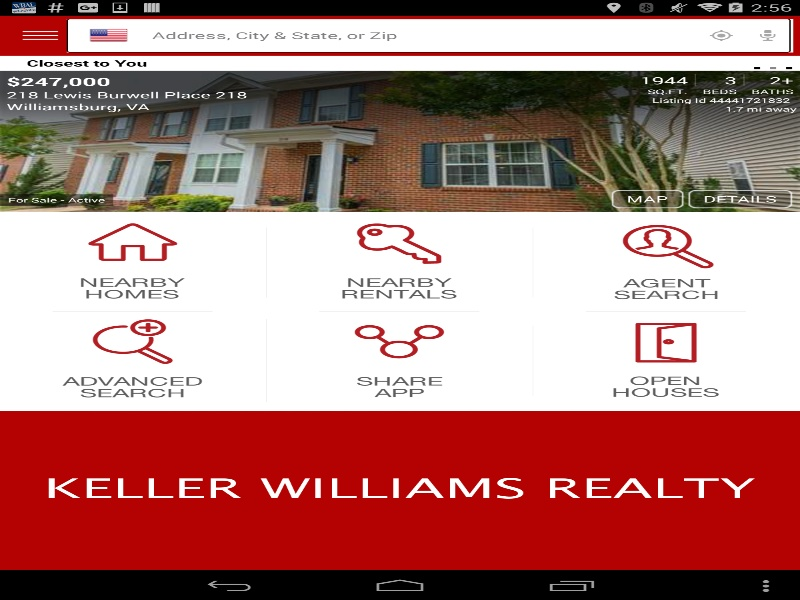Button: (687, 189, 793, 208), (72, 23, 138, 48), (610, 189, 684, 208), (13, 23, 66, 48), (701, 26, 741, 45), (748, 26, 788, 45)
Input: (152, 23, 694, 48)
